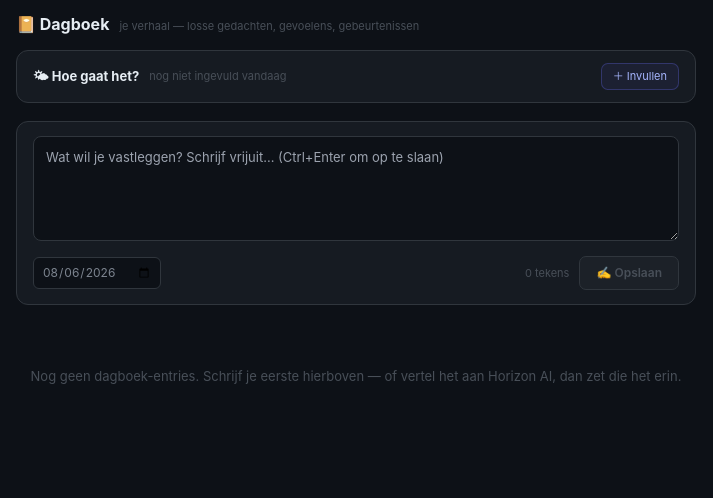
Scenario: DiaryTab — AI-inschatting van de stemming › slaat de suggestie op met source "ai" via "Gebruiken"
Replace the text in the text box with placeholder "Wat wil je vastleggen" with "Zware dag.": (356,188) x1=33 y1=136 x2=679 y2=241
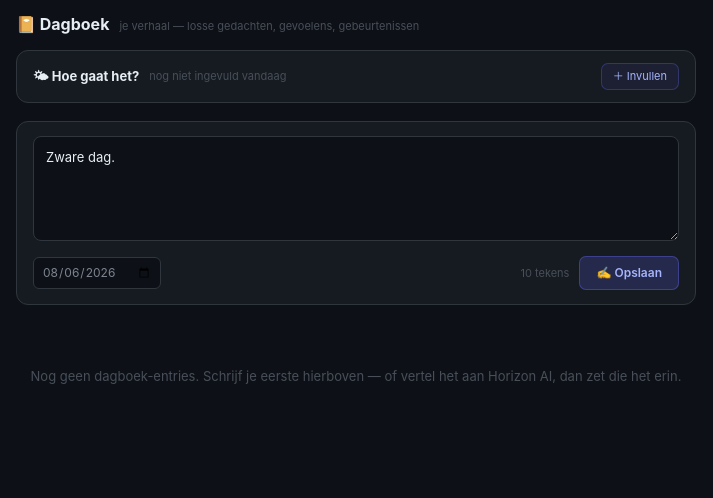
Click the button "✍️ Opslaan": (629,273) x1=579 y1=256 x2=679 y2=290
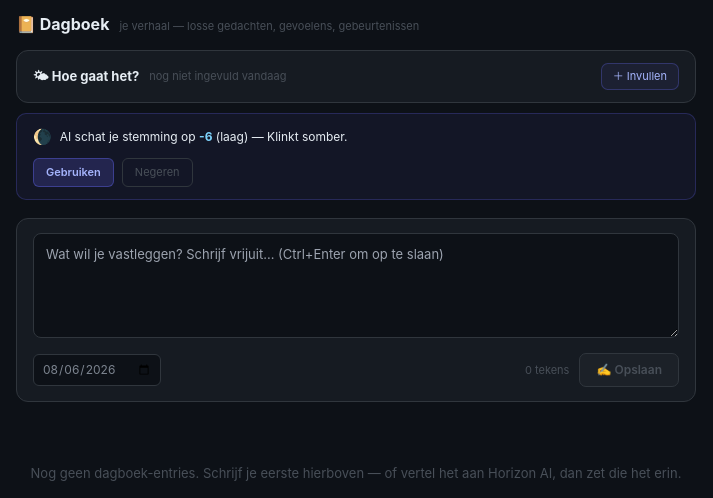
Click the button "Gebruiken": (73,172) x1=33 y1=158 x2=114 y2=186
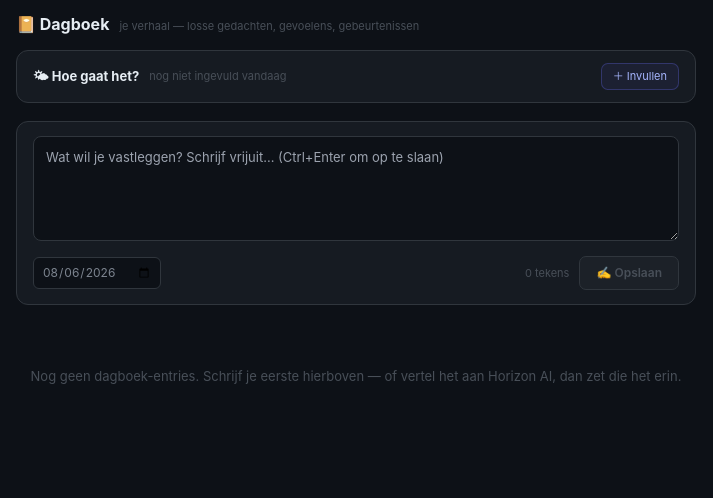
Result: the button "Gebruiken" is gone
